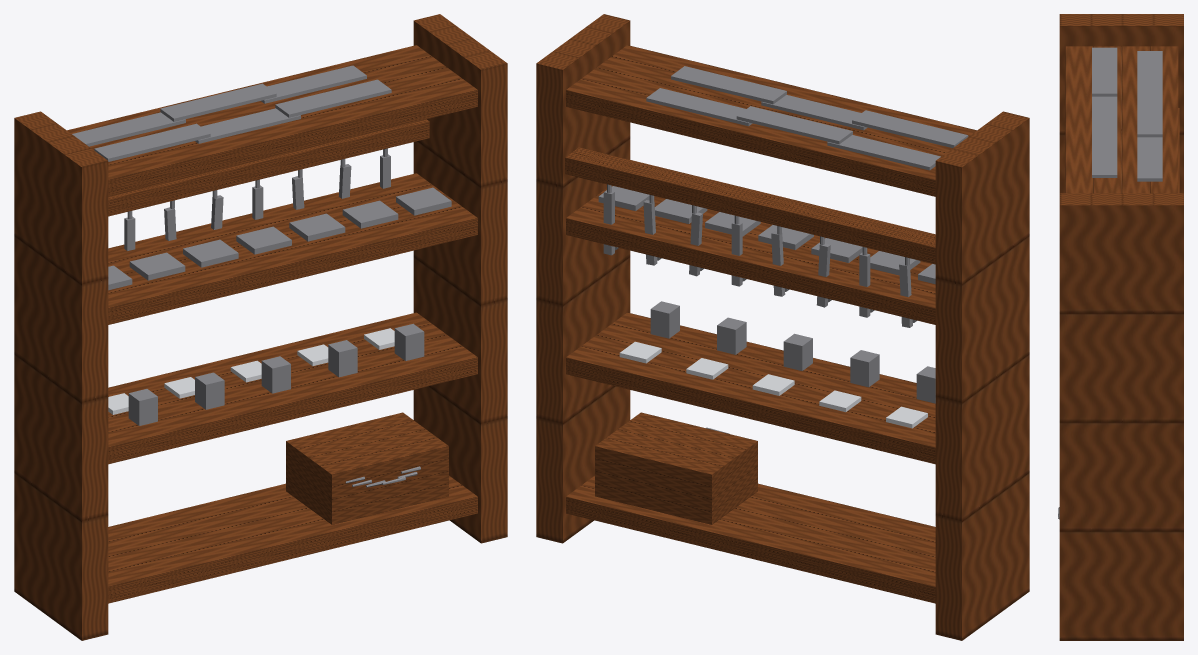
Rendered from finished-goods-rack-1-6-m.glb.
3 renders of one model, left to right at view 1: azimuth 30°, elevation 25°; view 2: azimuth 150°, elevation 25°; view 3: azimuth 270°, elevation 25°, orthographic. The views are drawn at different scales.
Parts seen in each view (by area): view 1: blacksmith-forge-and-armoury-finished-goods-rack; view 2: blacksmith-forge-and-armoury-finished-goods-rack; view 3: blacksmith-forge-and-armoury-finished-goods-rack.
Boxes of the visible parts, left/top/right/bottom form: blacksmith-forge-and-armoury-finished-goods-rack: left=14, top=14, right=507, bottom=640; blacksmith-forge-and-armoury-finished-goods-rack: left=536, top=14, right=1029, bottom=640; blacksmith-forge-and-armoury-finished-goods-rack: left=1058, top=14, right=1183, bottom=640.
Size of the model in its own units: 1.6 by 1.7 by 0.4452.
3 materials, 1 textured.
